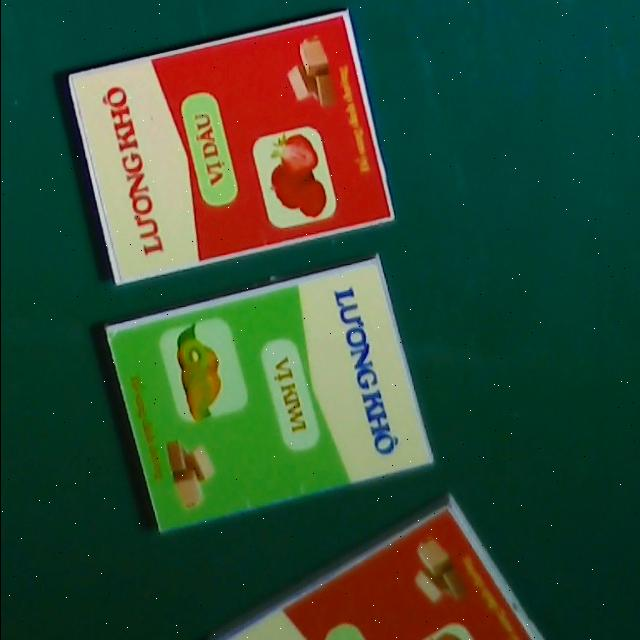dau: (67, 8, 395, 283), (214, 496, 542, 640)
kiwi: (102, 256, 431, 535)
